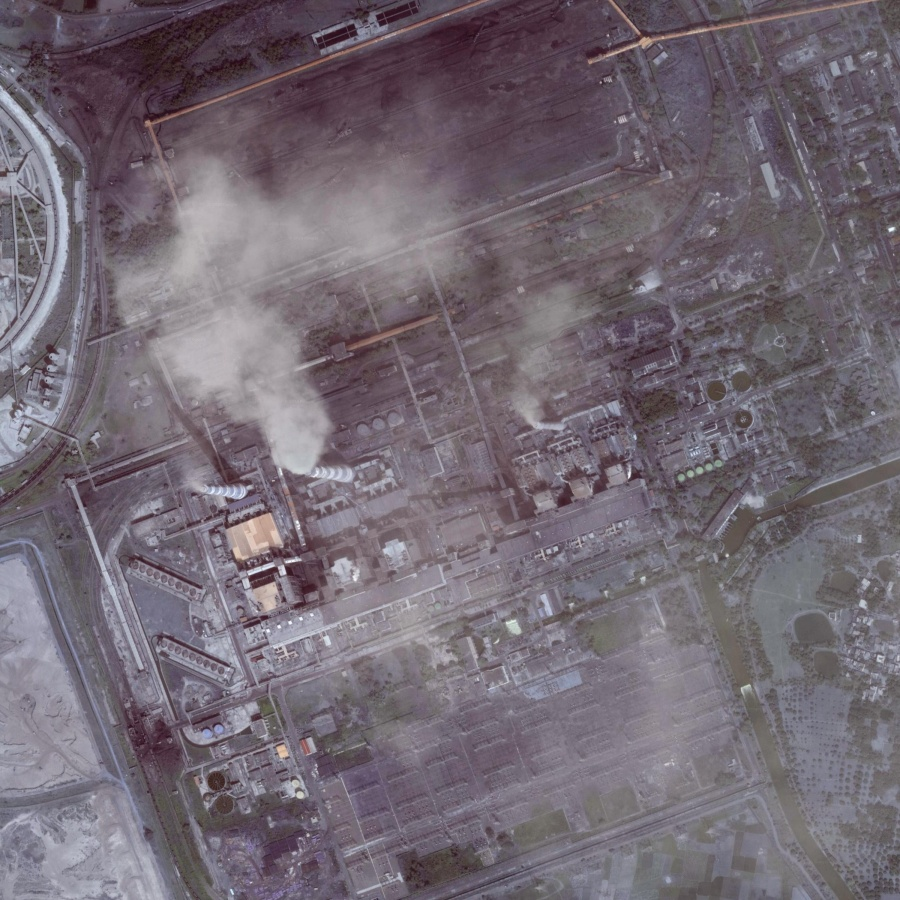PowerPlant: (150, 345, 634, 656)
